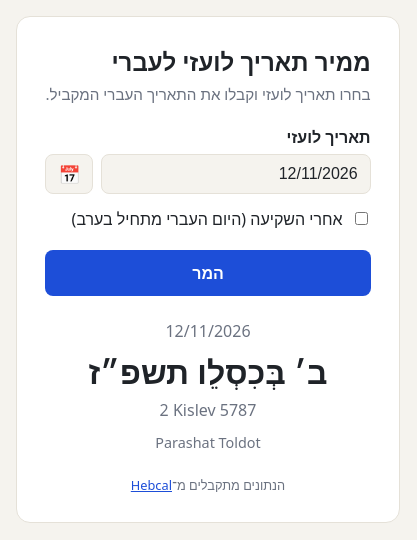
Test: App › converts a typed date, with and without sunset
Expected: the text "ב׳ בְּכִסְלֵו תשפ״ז" is shown, [88,350,328,392]
Replace the text in the field labelled "תאריך לועזי" with "15031997" at (236, 174), box [101,154,371,194]
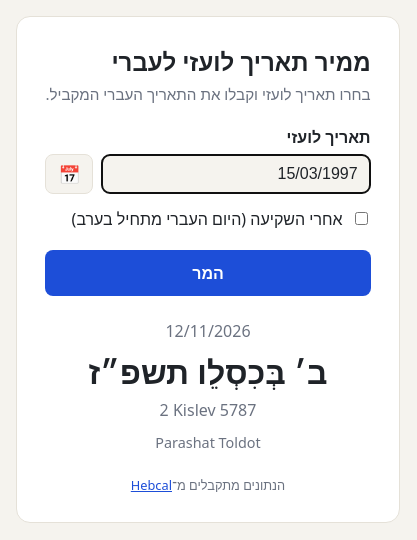
Now the field labelled "תאריך לועזי" holds "15/03/1997", box [101,154,371,194]
Click the button "המר".
click(208, 272)  # box [45,250,371,296]
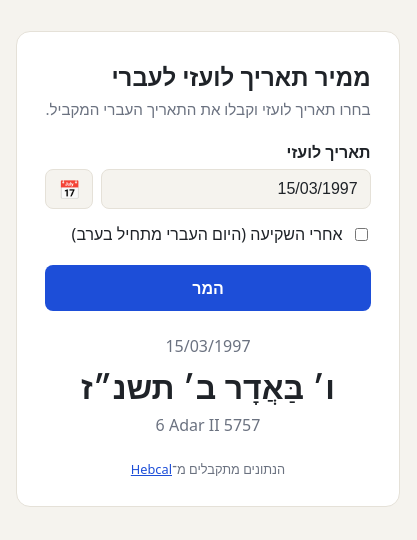
Now the text "ו׳ בַּאֲדָר ב׳ תשנ״ז" is shown, box [81,365,335,408]
Now the text "15/03/1997" is shown, box [165,335,250,357]
Click the checkbox labelled "אחרי השקיעה (היום העברי מתחיל בערב)".
click(361, 234)  # box [355,228,368,240]
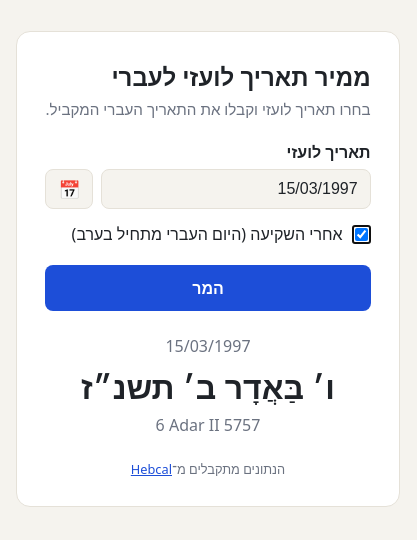
Click the button "המר".
click(208, 288)  # box [45,265,371,311]
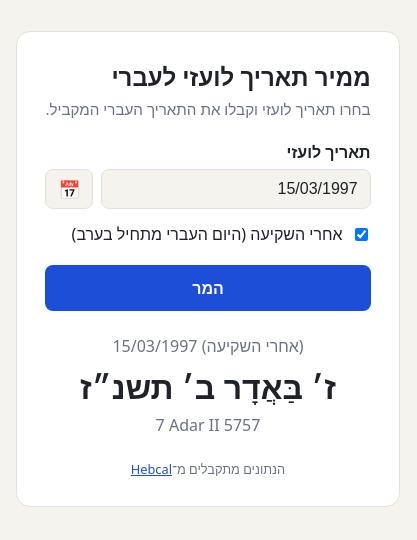
Now the text "ז׳ בַּאֲדָר ב׳ תשנ״ז" is shown, box [80,365,336,408]
